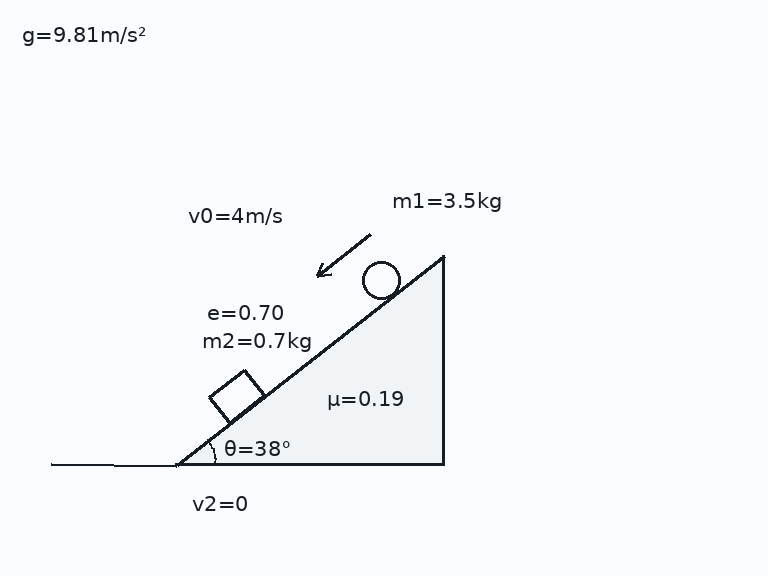ball: (360, 259, 402, 301)
block: (207, 368, 266, 424)
ramp: (174, 254, 444, 466)
